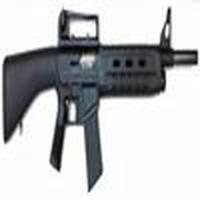gun: (4, 8, 193, 169)
